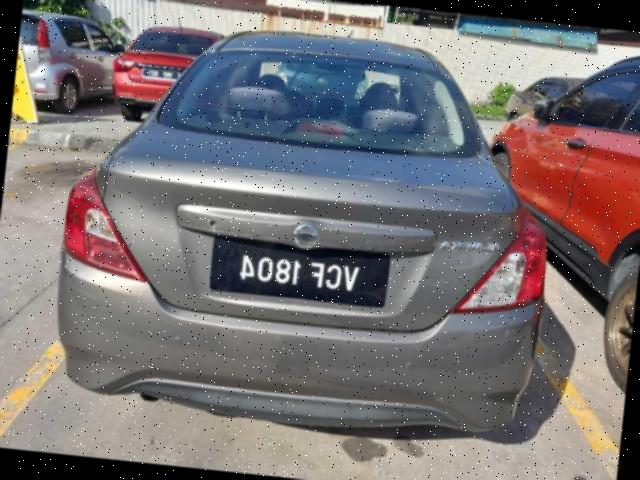License_Plate: (208, 236, 393, 311), (143, 70, 179, 82)
car: (46, 9, 571, 450), (108, 21, 227, 132)
